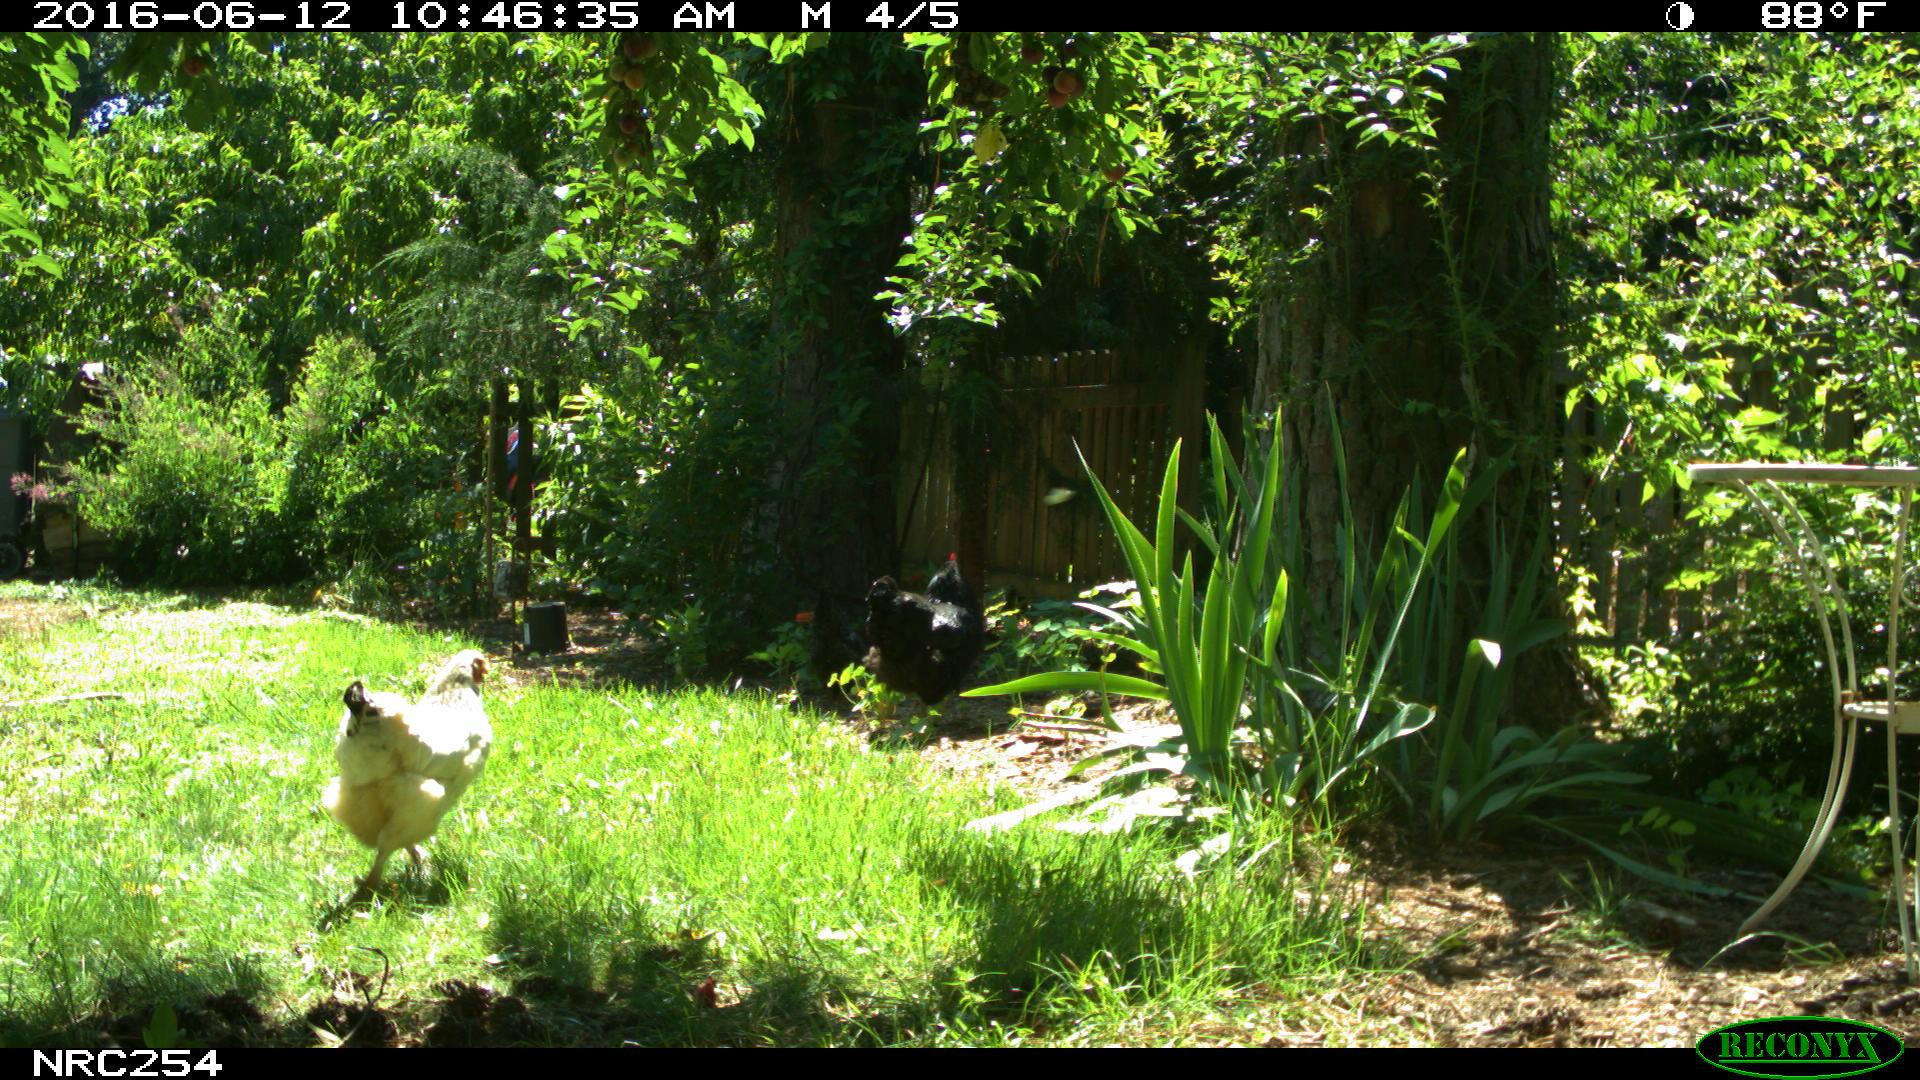Animal: (323, 647, 492, 890), (866, 553, 985, 723)
